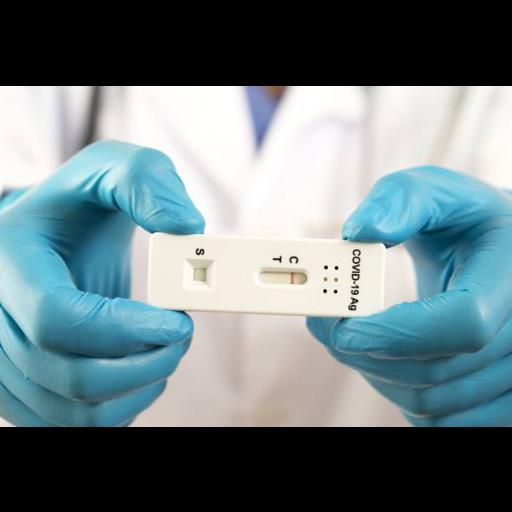Neg: (147, 231, 386, 316)
